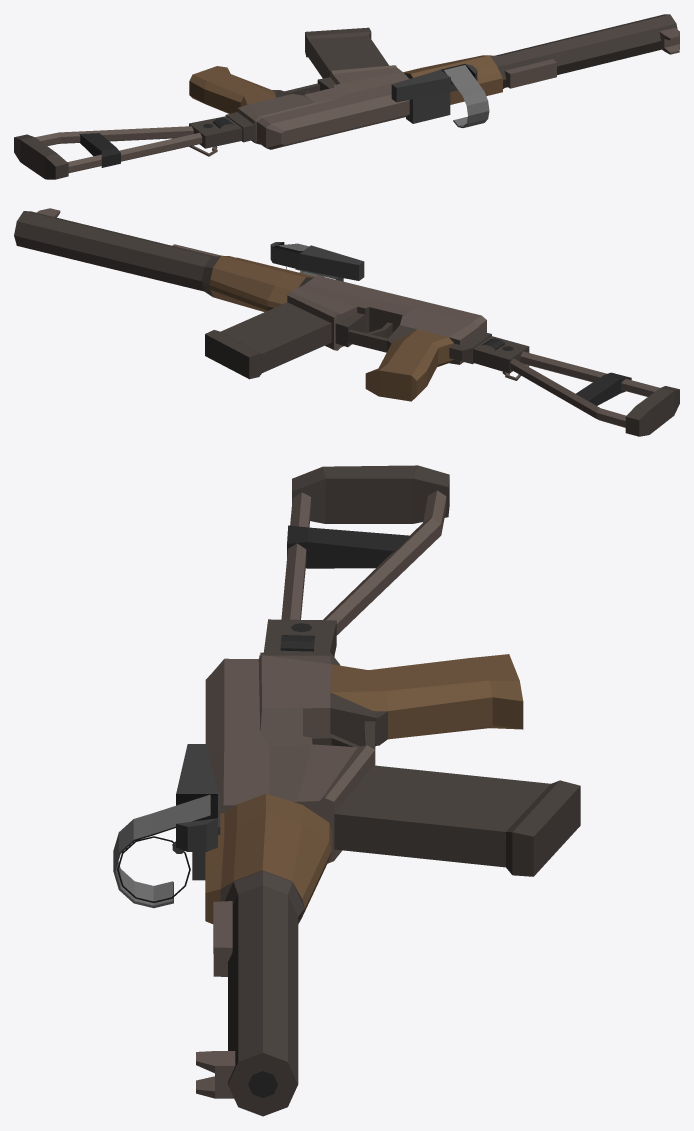
File: AsVal_3D.glb
3 views of the same model, one above another, from view 1: azimuth 30°, elevation 25°; view 2: azimuth 150°, elevation 25°; view 3: azimuth 270°, elevation 25° (orthographic). The views are drawn at different scales.
Visible parts, largest first — view 1: AsValLowPoly; view 2: AsValLowPoly; view 3: AsValLowPoly.
Boxes of the visible parts, x1=… form: AsValLowPoly: x1=14, y1=14, x2=679, y2=179; AsValLowPoly: x1=14, y1=208, x2=679, y2=436; AsValLowPoly: x1=113, y1=465, x2=580, y2=1116.
Bounding box in the file's own units: 0.943 × 0.0697 × 0.3121.
Materials: 1 (1 with a texture image).
